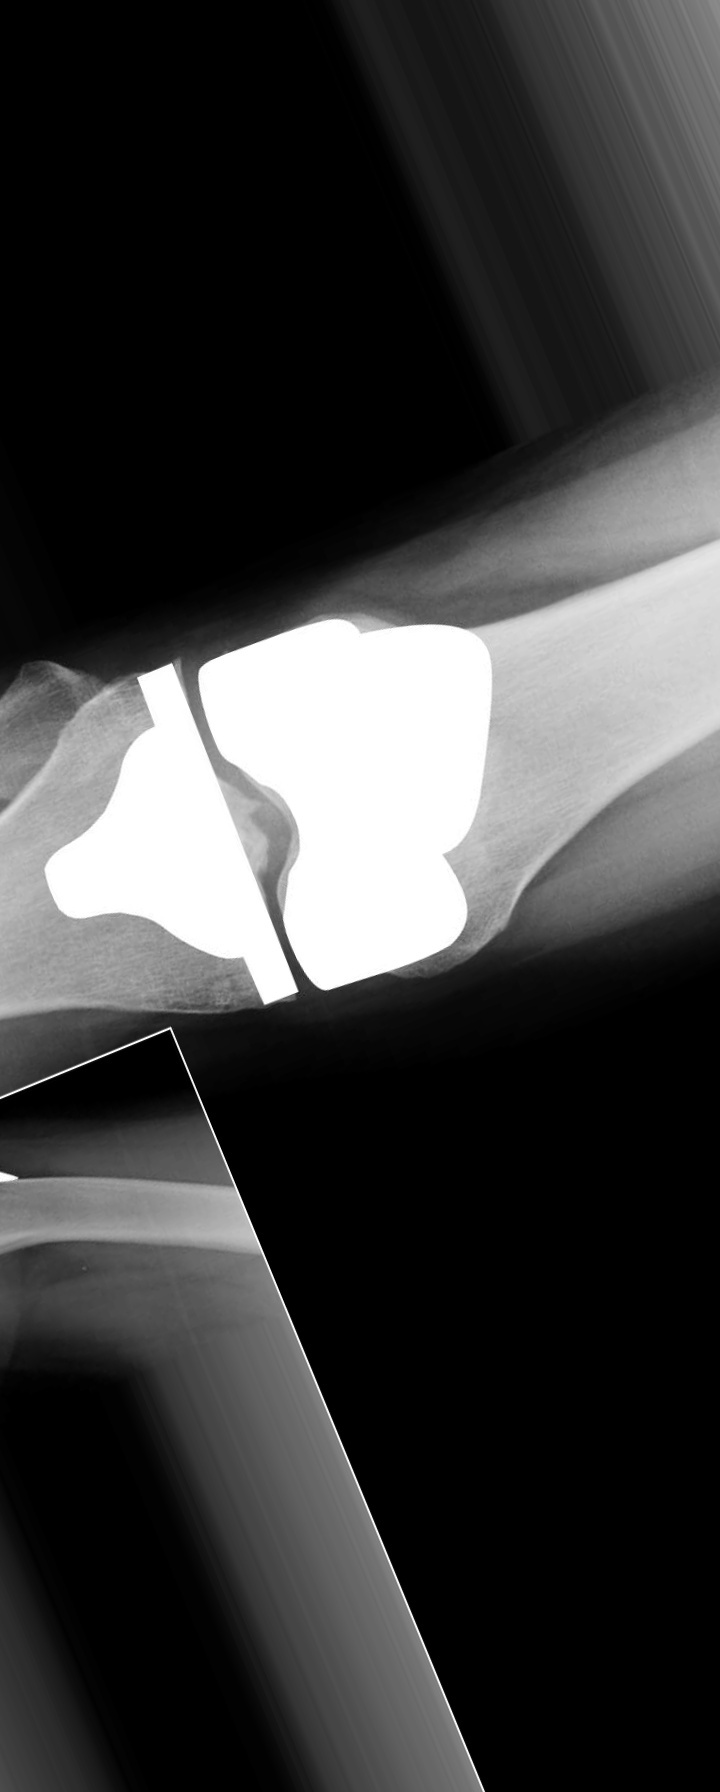Knee-Triathlon-Stryker: (37, 619, 503, 1007)
